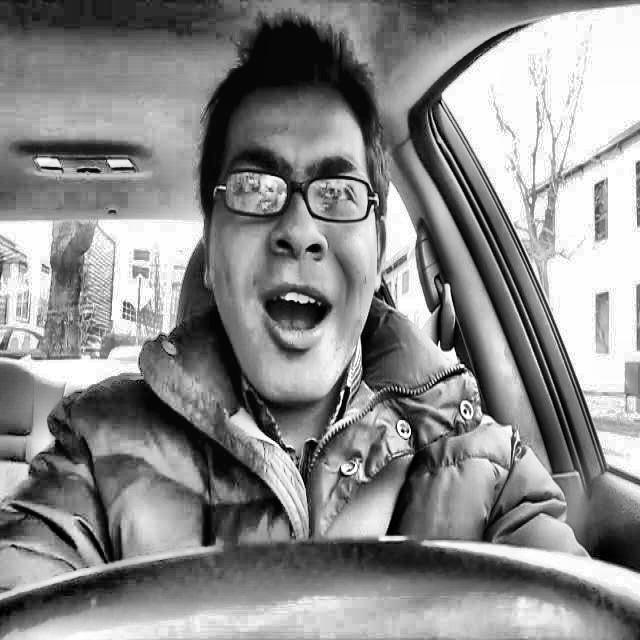open_mouth: (251, 271, 346, 367)
